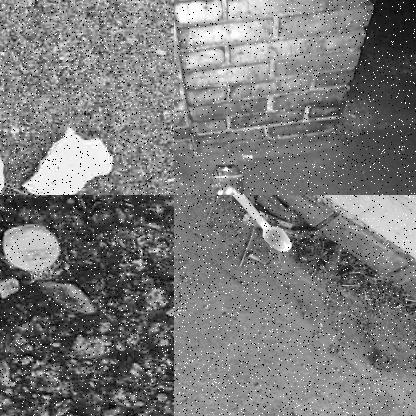metal: (211, 161, 248, 194)
plastic: (18, 122, 118, 194), (220, 195, 294, 261), (0, 223, 62, 273)
